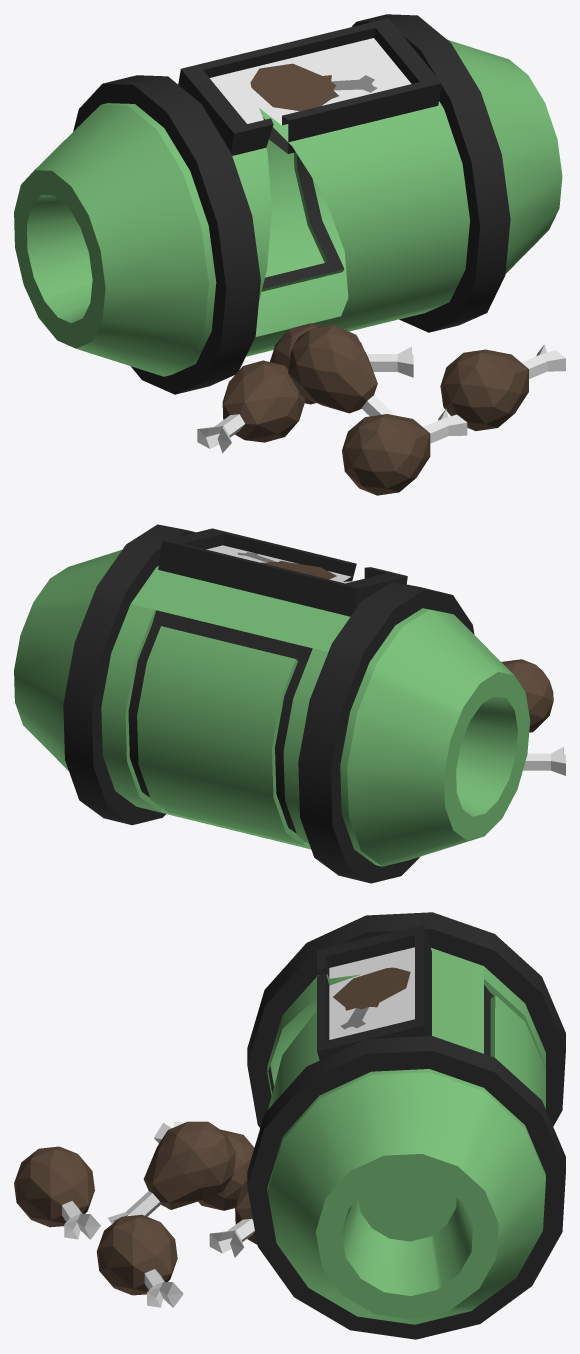
File: Destroyed_FoodTank.fbx
3 renders of one model, top to bottom at view 1: azimuth 30°, elevation 25°; view 2: azimuth 150°, elevation 25°; view 3: azimuth 270°, elevation 25°, orthographic. The views are drawn at different scales.
Parts seen in each view (by area): view 1: polySurface2435, pPlatonic4, pPlatonic5, pPlatonic3, pPlatonic2, pPlatonic1; view 2: polySurface2435, pPlatonic4, pPlatonic2; view 3: polySurface2435, pPlatonic3, pPlatonic5, pPlatonic4, pPlatonic2, pPlatonic1.
Part boxes in pixels (left/top/right/bottom): polySurface2435: left=14, top=14, right=562, bottom=394; pPlatonic4: left=342, top=409, right=467, bottom=495; pPlatonic5: left=440, top=344, right=565, bottom=430; pPlatonic3: left=288, top=324, right=395, bottom=416; pPlatonic2: left=197, top=360, right=305, bottom=453; pPlatonic1: left=270, top=323, right=413, bottom=404; polySurface2435: left=14, top=524, right=530, bottom=883; pPlatonic4: left=501, top=659, right=553, bottom=732; pPlatonic2: left=523, top=747, right=565, bottom=775; polySurface2435: left=247, top=912, right=565, bottom=1339; pPlatonic3: left=108, top=1121, right=235, bottom=1223; pPlatonic5: left=96, top=1214, right=183, bottom=1307; pPlatonic4: left=14, top=1146, right=100, bottom=1239; pPlatonic2: left=154, top=1121, right=254, bottom=1210; pPlatonic1: left=209, top=1180, right=257, bottom=1257.
Size of the model in its own units: 2.38 by 1.48 by 2.49.
